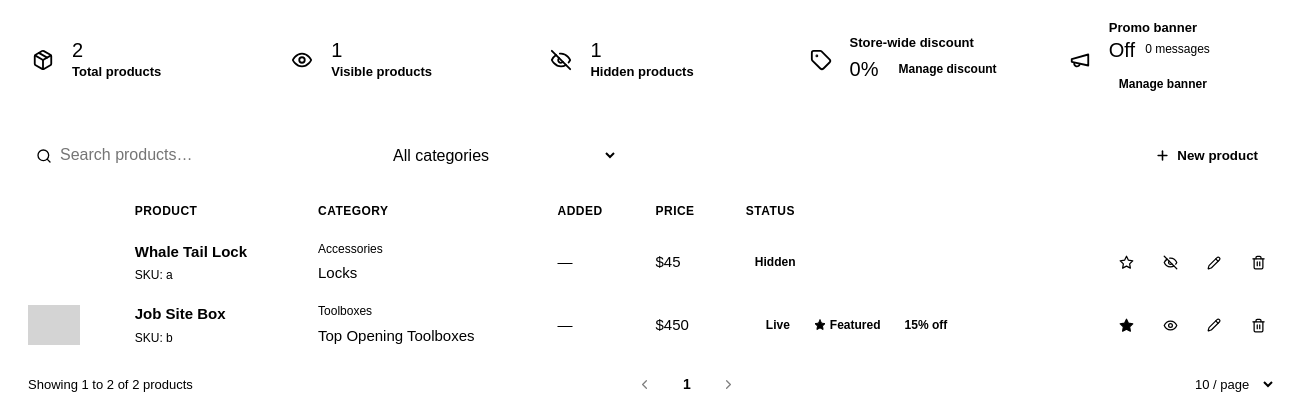
Test: ProductList › filters the grid by clicking the visible / hidden stat cards
Check: the text "Whale Tail Lock" is shown, box top-left (135, 243), bottom-right (247, 260)
Check: the text "Job Site Box" is shown, box top-left (135, 305), bottom-right (226, 322)
Hidden card → only the hidden product (Whale Tail Lock).
Click the button "1 Hidden products" at (652, 60), box top-left (530, 12), bottom-right (774, 107)
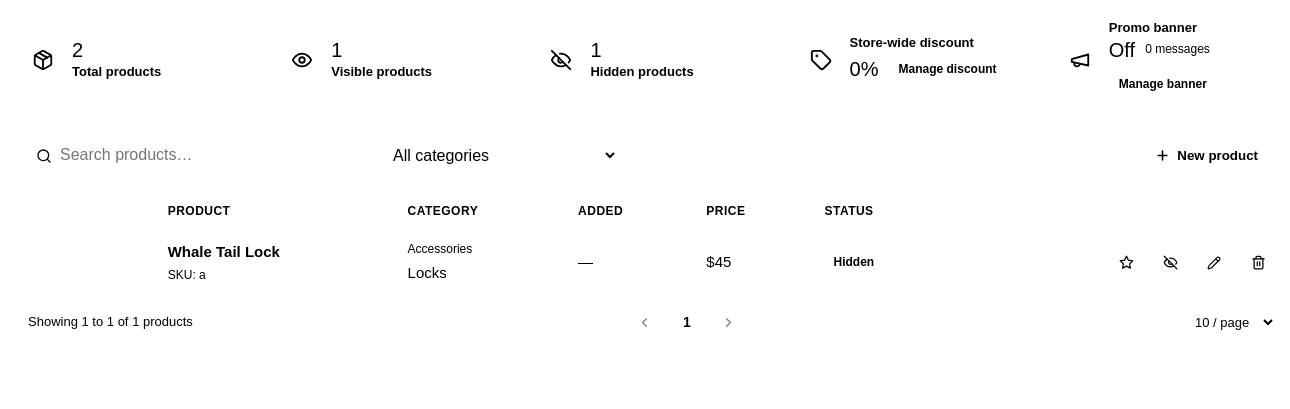
Check: the text "Whale Tail Lock" is shown, box top-left (168, 243), bottom-right (280, 260)
Check: the text "Job Site Box" is gone
Visible card → only the visible product (Job Site Box).
Click the button "1 Visible products" at (393, 60), box top-left (271, 12), bottom-right (514, 107)
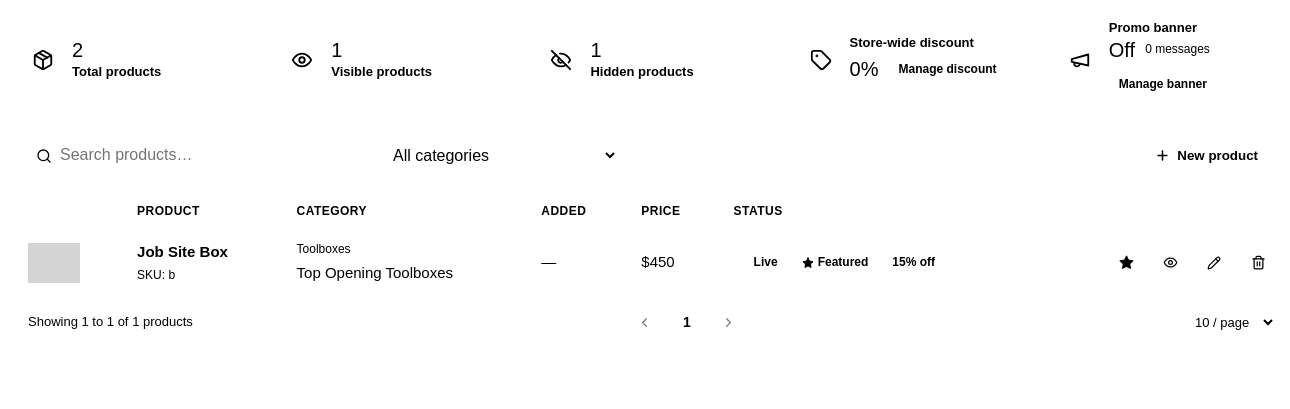
Check: the text "Job Site Box" is shown, box top-left (137, 243), bottom-right (228, 260)
Check: the text "Whale Tail Lock" is gone
